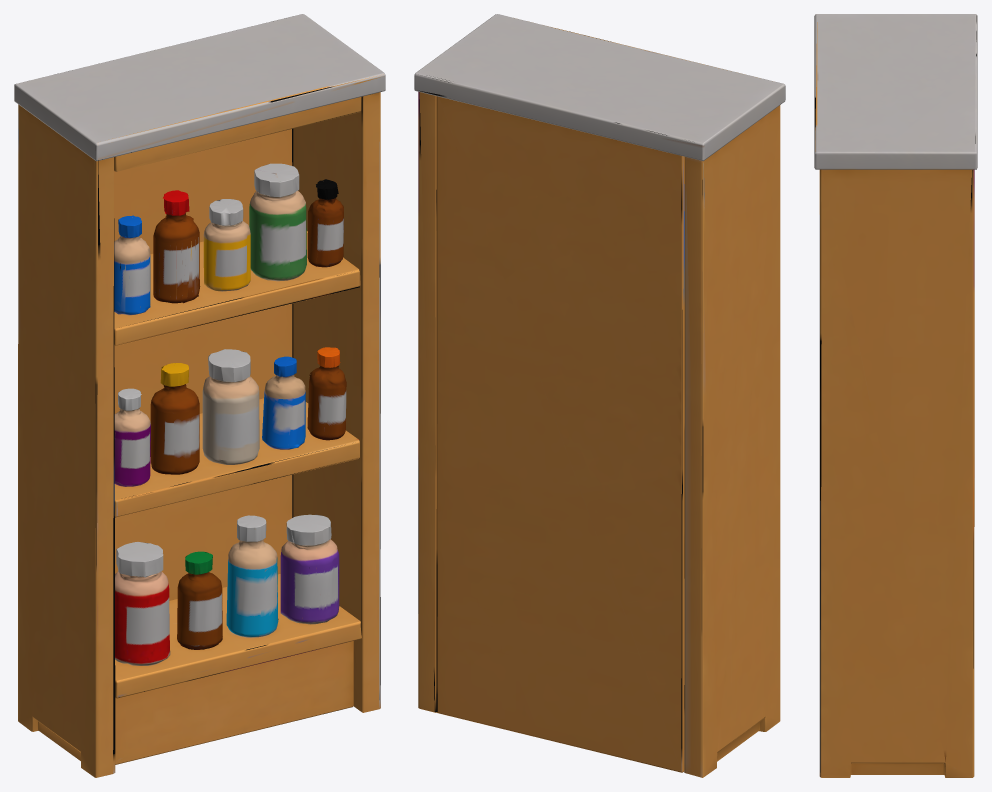
File: ChemicalBottleShelf.glb
The picture shows the model from 3 angles, left to right: view 1: azimuth 30°, elevation 25°; view 2: azimuth 150°, elevation 25°; view 3: azimuth 270°, elevation 25°; orthographic projection.
Parts seen in each view (by area): view 1: geometry_0; view 2: geometry_0; view 3: geometry_0.
Part boxes in pixels (box(x1,y1,x2,y2)): geometry_0: box(14, 14, 385, 777); geometry_0: box(414, 14, 785, 777); geometry_0: box(814, 14, 977, 777).
Bounding box in the file's own units: 0.4526 × 0.9512 × 0.2241.
Materials: 1 (1 with a texture image).
